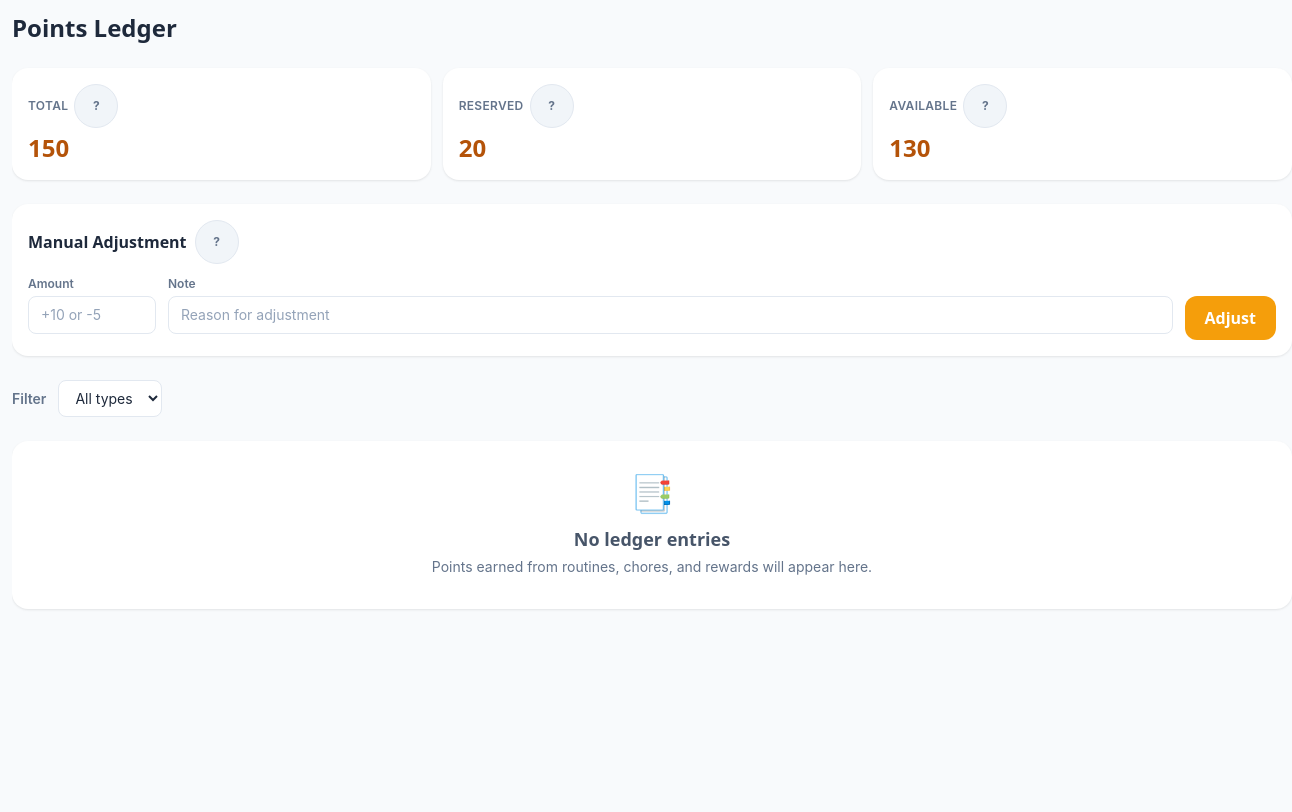
Test: LedgerScreen › shows validation error when note is empty on submit
The width and height of the screenshot is (1292, 812).
Check: the text "150" is shown, box [28, 131, 69, 164]
In the number field labelled "Amount": x=92, y=315 [28, 296, 156, 334], type "5"
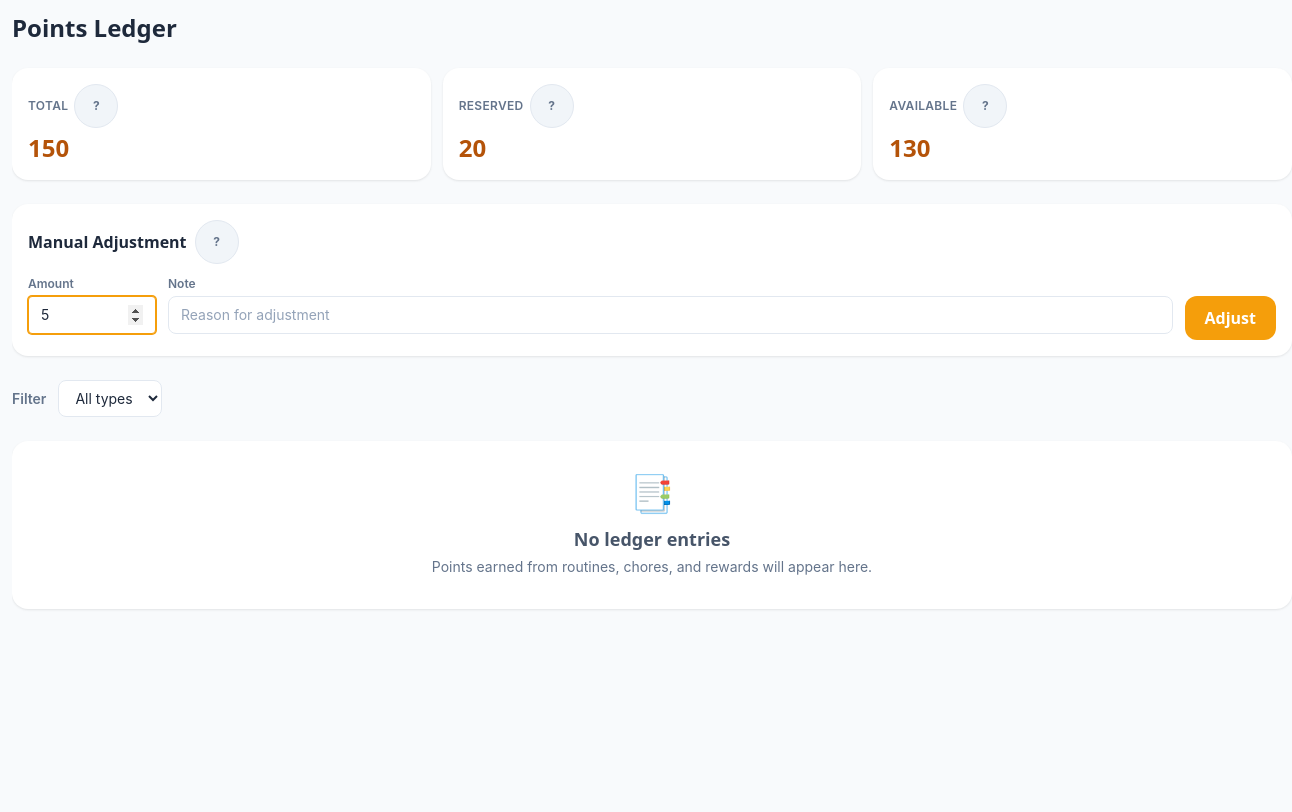
Click the button "Adjust": x=1230, y=318 [1184, 296, 1276, 340]
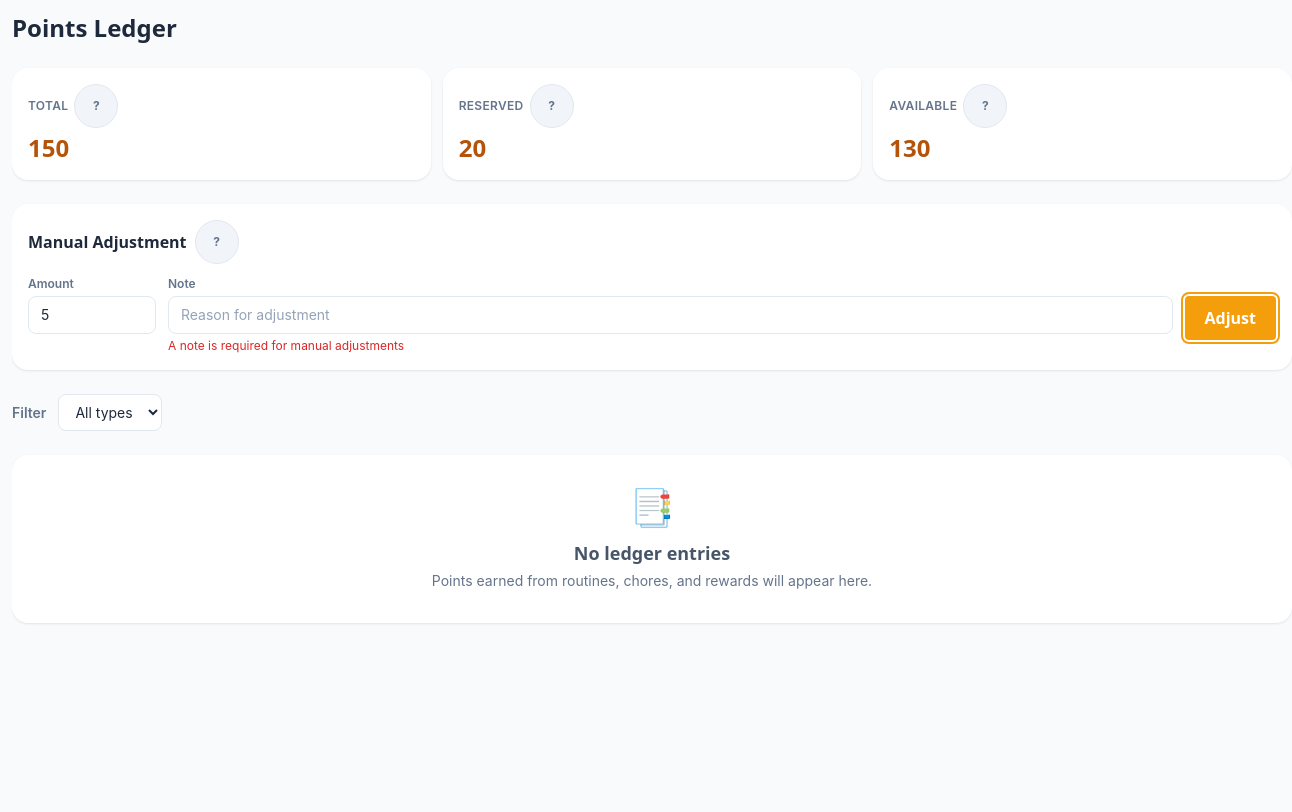
Check: the text "A note is required for manual adjustments" is shown, box [168, 338, 404, 353]
